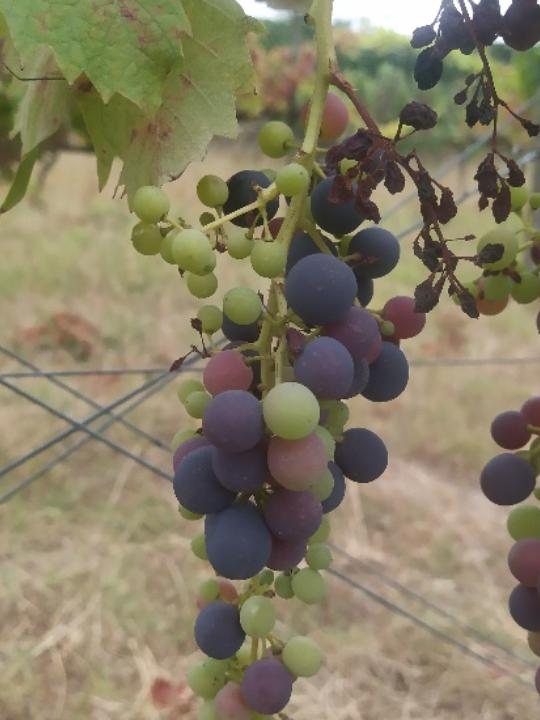grape: (123, 89, 506, 720), (409, 0, 540, 225)
